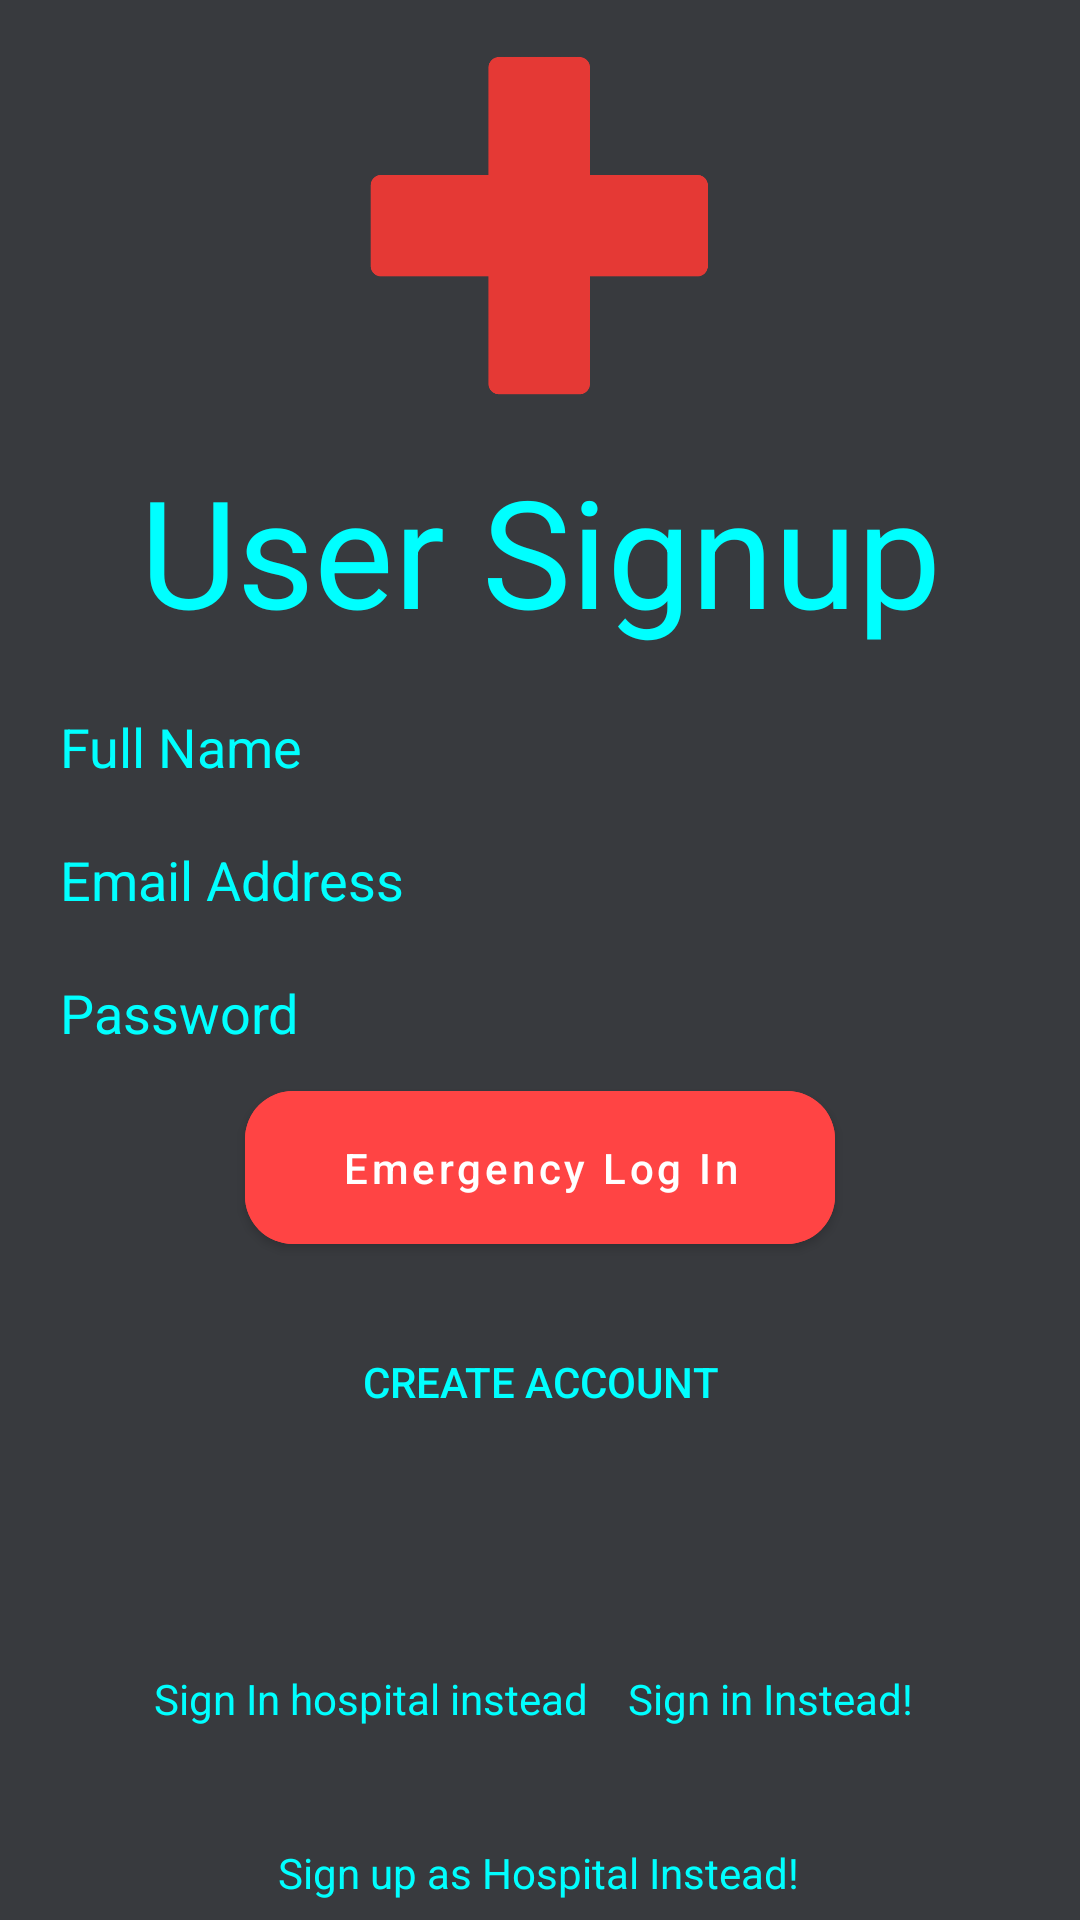

Locate icon controls on the screen. Image size 1080px x 1920px, boxes as (x1, y1, x2, y2).
hospital: (370, 57, 708, 395)
